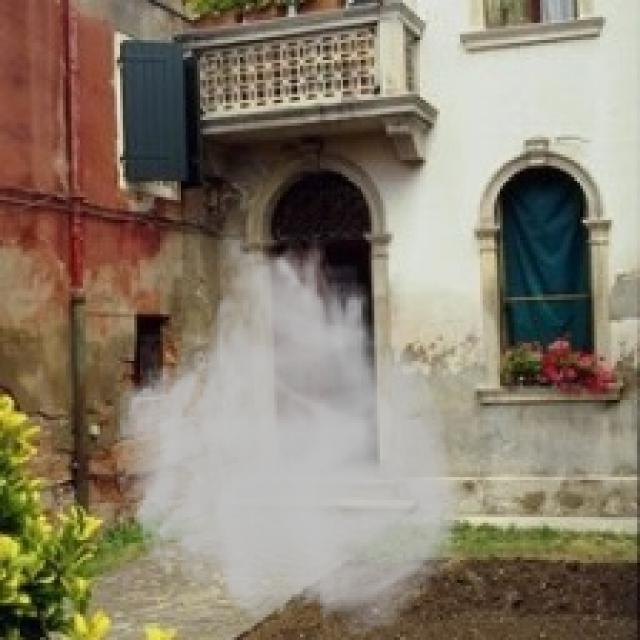Smoke: (111, 225, 468, 638)
